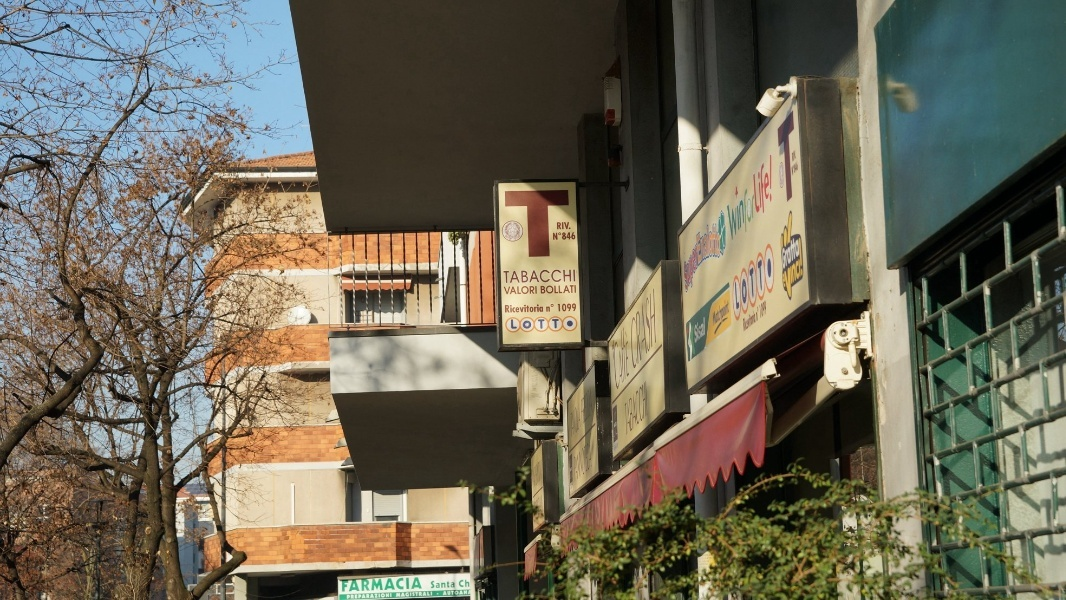text: (641, 286, 657, 373), (785, 234, 800, 302), (753, 153, 768, 216), (630, 286, 640, 373), (625, 380, 640, 436), (705, 215, 720, 267), (737, 259, 752, 311), (614, 321, 624, 392), (577, 438, 593, 481), (727, 177, 736, 242), (737, 177, 746, 242), (753, 259, 764, 311), (785, 234, 800, 271), (689, 243, 699, 296), (641, 380, 649, 436), (581, 389, 592, 427), (744, 189, 752, 235), (697, 215, 704, 267), (625, 321, 630, 392), (532, 458, 544, 487), (721, 295, 731, 329), (534, 495, 544, 524), (769, 153, 773, 216), (695, 316, 704, 344), (743, 305, 752, 332), (713, 295, 720, 329), (353, 578, 368, 593), (369, 578, 384, 593), (385, 578, 400, 593), (401, 578, 416, 593), (570, 402, 576, 438), (684, 243, 688, 296), (801, 234, 804, 302), (513, 270, 528, 283), (529, 270, 544, 283), (545, 270, 560, 283), (561, 270, 576, 283), (753, 305, 760, 332), (577, 402, 582, 438), (759, 299, 768, 319), (513, 319, 528, 329), (529, 319, 544, 329), (545, 319, 560, 329), (342, 578, 352, 593), (561, 285, 577, 294), (513, 286, 528, 295), (545, 285, 560, 294), (513, 304, 528, 313), (529, 304, 544, 313), (791, 161, 800, 176), (433, 581, 448, 590), (561, 304, 577, 312), (547, 304, 560, 313), (792, 149, 800, 163), (561, 233, 576, 240), (504, 270, 512, 283), (417, 592, 433, 598), (753, 189, 755, 235), (561, 222, 571, 231), (417, 578, 423, 593), (353, 594, 368, 600), (369, 594, 384, 600), (401, 592, 416, 598), (574, 438, 576, 481), (449, 591, 464, 596), (782, 234, 784, 271), (504, 286, 512, 295), (529, 286, 537, 295), (783, 234, 784, 302), (505, 304, 512, 313), (449, 581, 456, 590), (721, 215, 722, 267), (735, 259, 736, 311), (459, 579, 464, 589), (465, 579, 470, 589), (554, 233, 560, 240), (385, 594, 392, 600), (593, 389, 594, 427), (465, 591, 472, 596), (347, 594, 352, 600), (705, 316, 706, 344), (557, 222, 560, 231), (541, 285, 544, 294), (705, 557, 713, 560), (396, 592, 400, 598), (705, 554, 712, 557), (699, 560, 704, 564), (705, 560, 710, 564), (444, 591, 448, 596), (558, 304, 560, 312), (699, 564, 704, 567), (705, 564, 710, 567), (705, 567, 710, 570), (700, 557, 704, 560), (700, 567, 704, 570)
